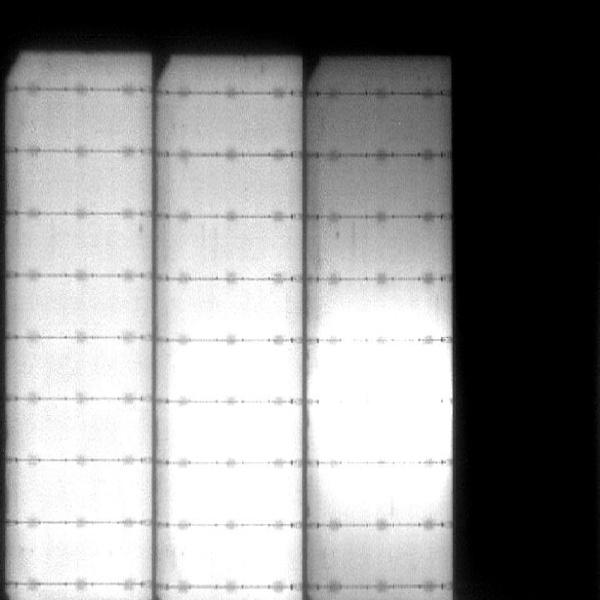hot_spot: (175, 346, 298, 396), (177, 468, 297, 519), (317, 351, 449, 396), (320, 406, 443, 454), (33, 527, 145, 579), (176, 411, 297, 456), (181, 531, 292, 575), (32, 473, 145, 513), (330, 475, 440, 515), (48, 415, 136, 449), (326, 310, 437, 335), (188, 306, 287, 332)
no_electricity: (452, 58, 596, 597), (4, 1, 599, 53)
